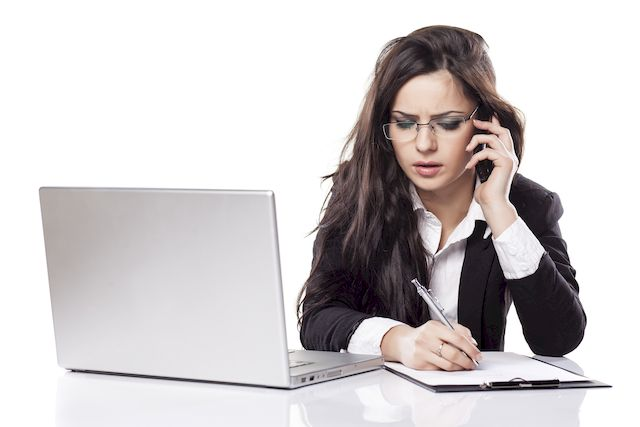phone: (470, 120, 502, 185)
talk: (385, 104, 521, 218)
